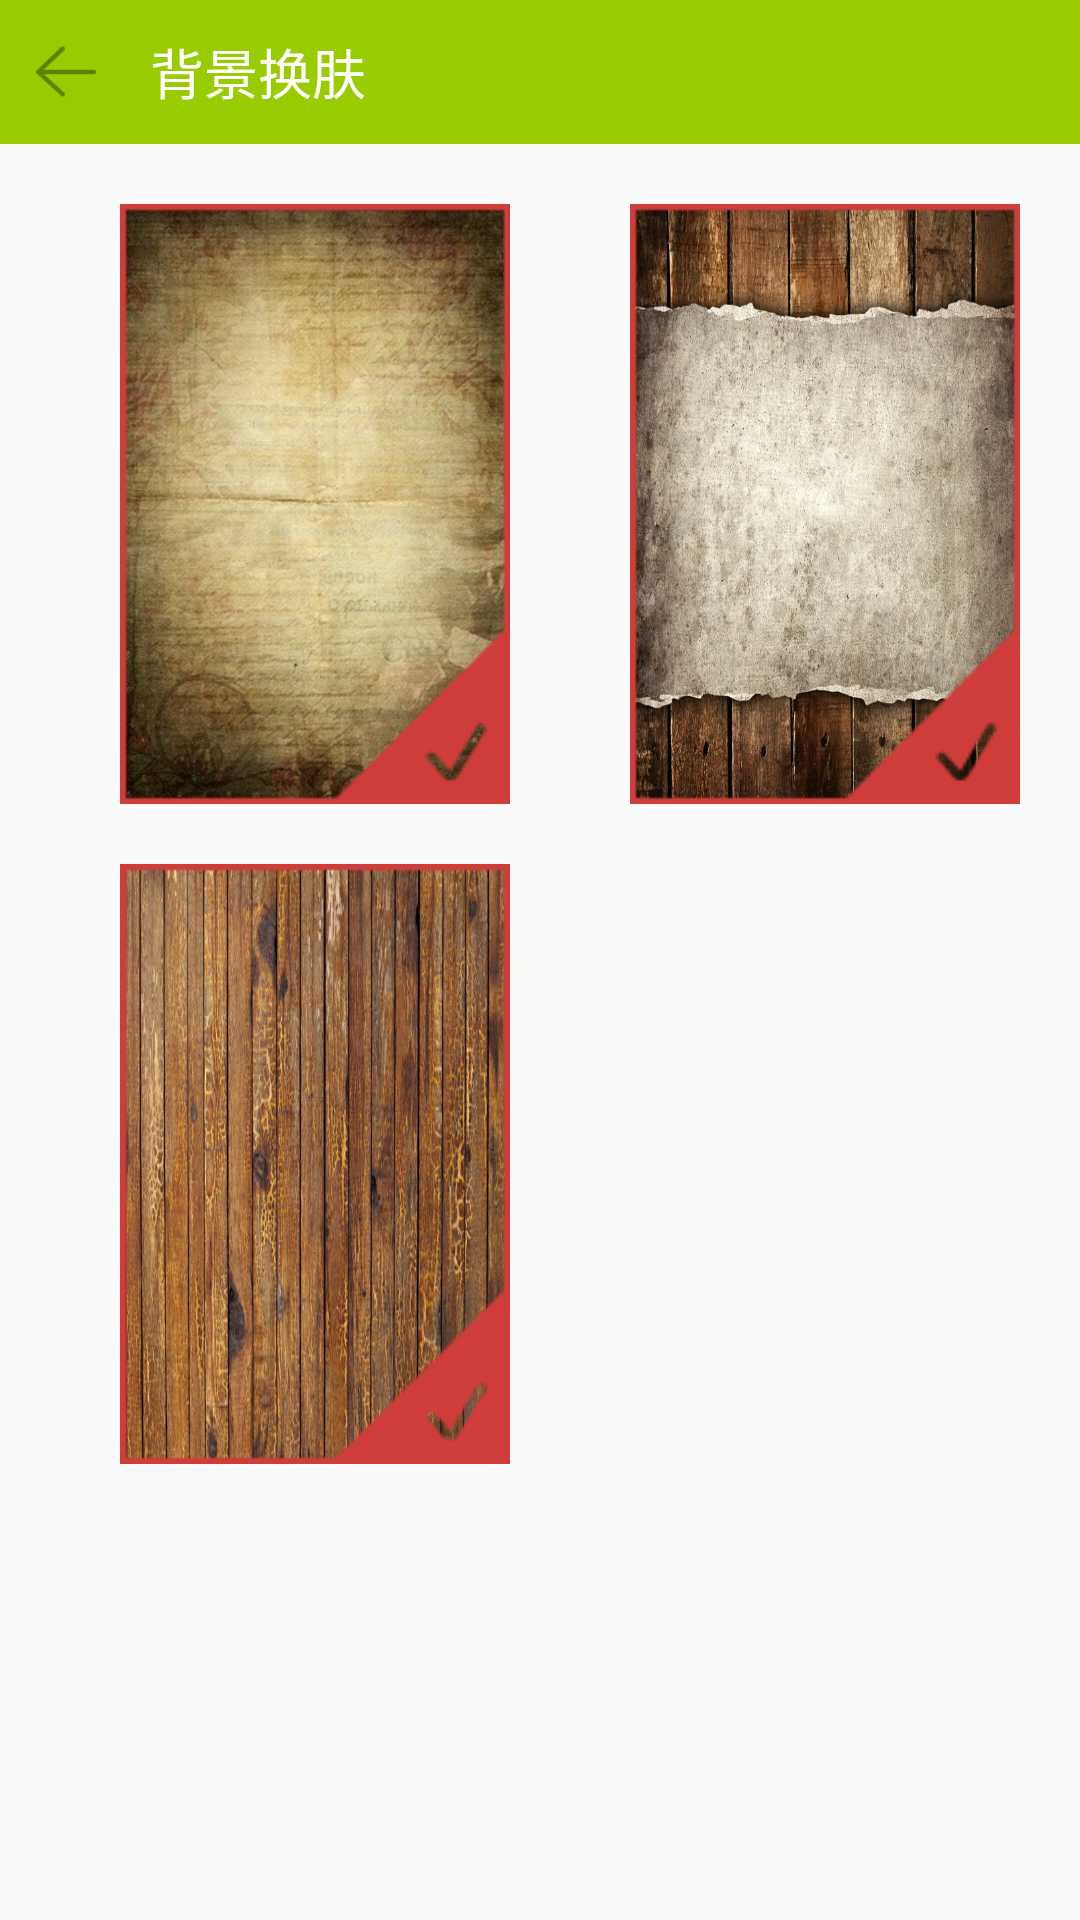

Screen size 1080w x 1920h. Icon name, then its box in pixels as (x1, y1, x2, y2):
login ban back prs: (36, 46, 96, 97)
